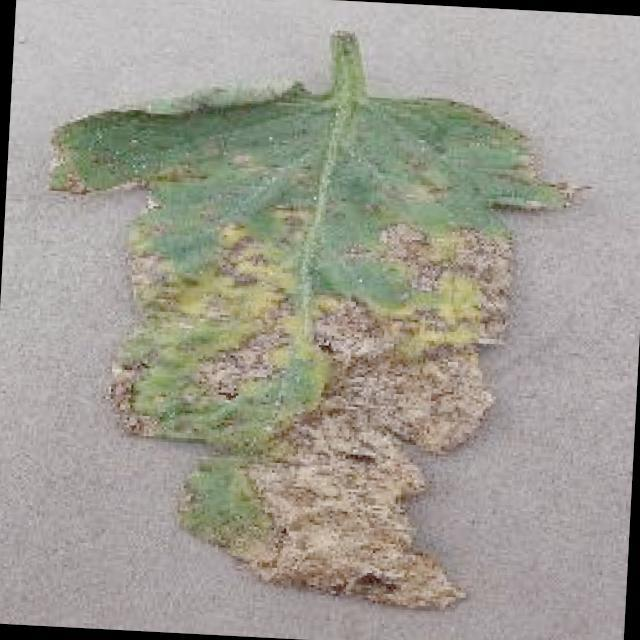Tomato bacterial spot leaf: (10, 54, 605, 630)
